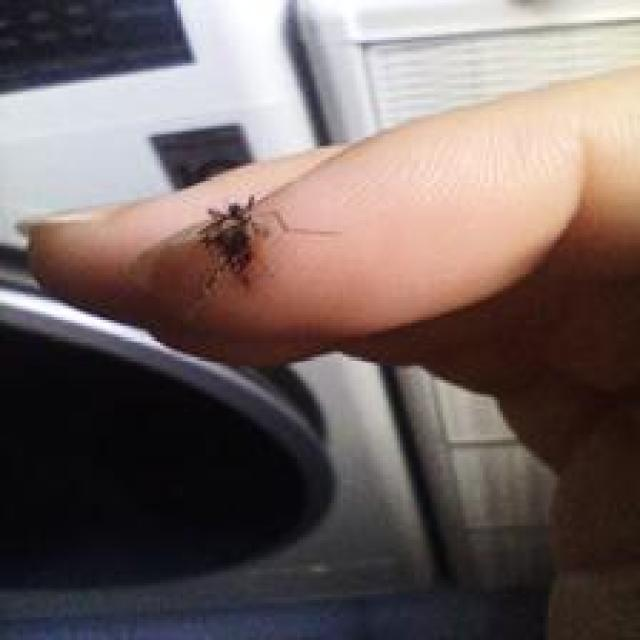Aedes albopictus: (193, 193, 338, 298)
